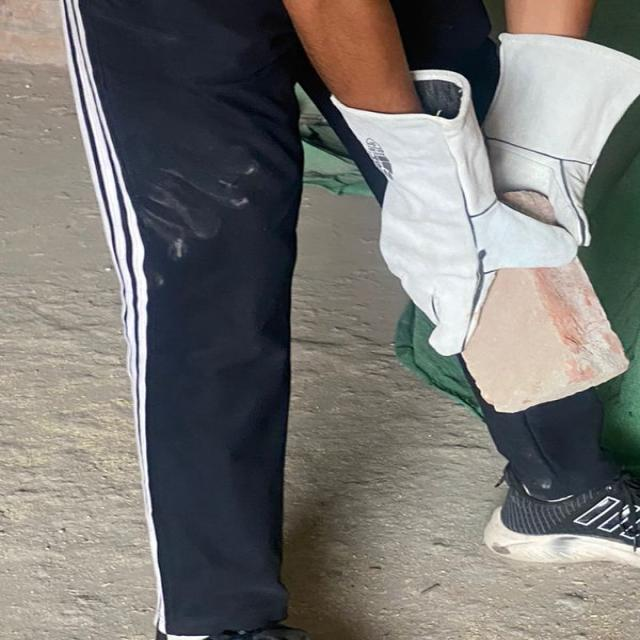Boot: (483, 464, 640, 580)
Glove: (308, 64, 578, 357), (474, 16, 640, 252)
